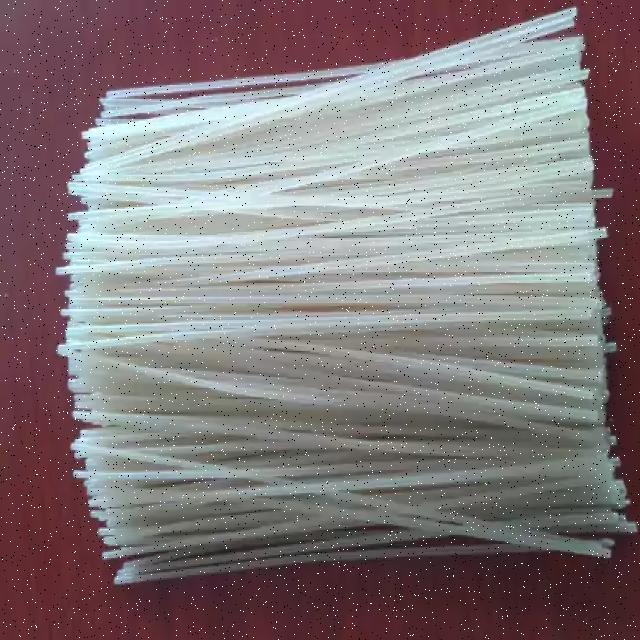Noodles: (83, 50, 615, 608)
